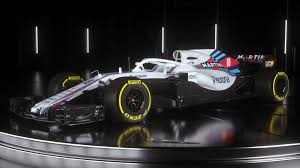FormulaOneCar: (8, 31, 292, 130)
